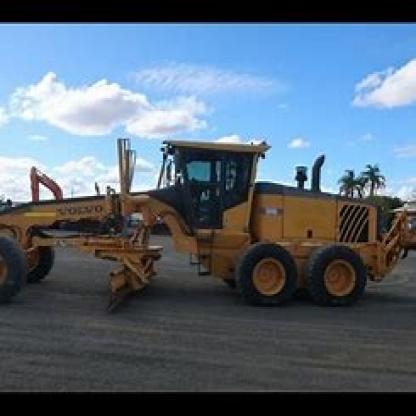bull_dozer/loader/grader: (0, 122, 414, 320)
